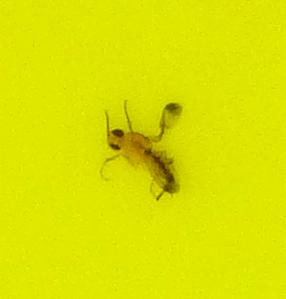Brachycera: (100, 100, 186, 199)
